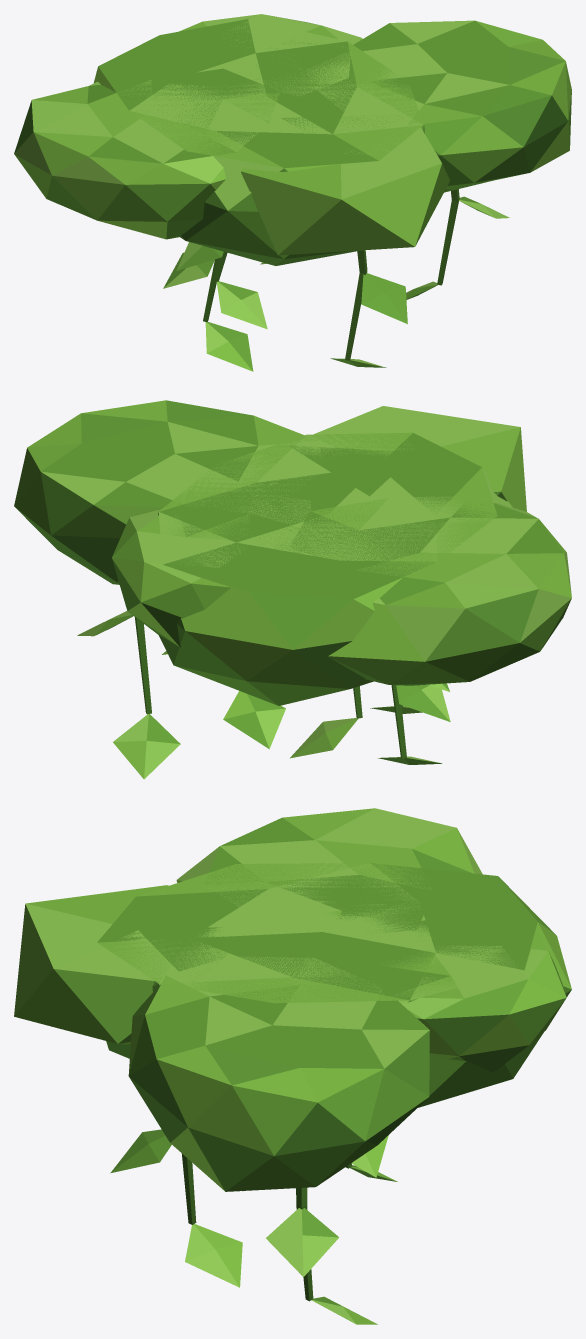
The model's file is mine-canopy-2.glb.
The picture shows the model from 3 angles, top to bottom: view 1: azimuth 30°, elevation 25°; view 2: azimuth 150°, elevation 25°; view 3: azimuth 270°, elevation 25°; orthographic projection. The views are drawn at different scales.
Parts seen in each view (by area): view 1: MineCanopy2; view 2: MineCanopy2; view 3: MineCanopy2.
Part boxes in pixels (<box>): MineCanopy2: <box>14,14,571,371</box>; MineCanopy2: <box>14,400,571,779</box>; MineCanopy2: <box>14,808,571,1324</box>.
Size of the model in its own units: 3 by 1.5 by 2.41.
